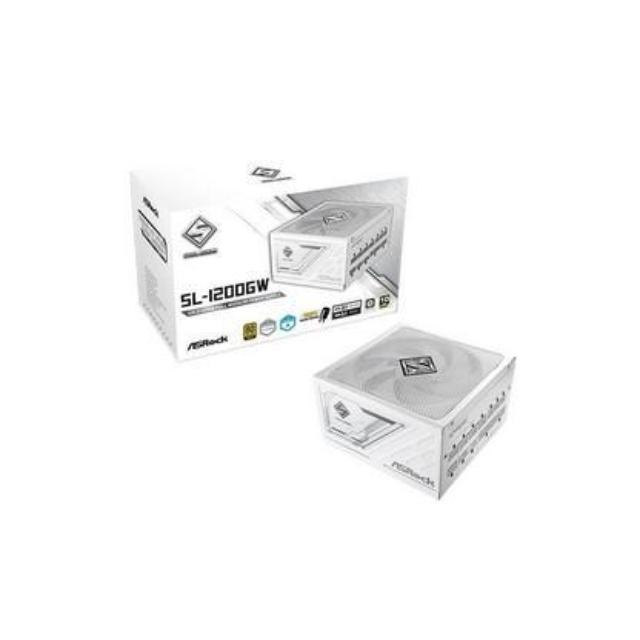PSU: (312, 324, 523, 498)
